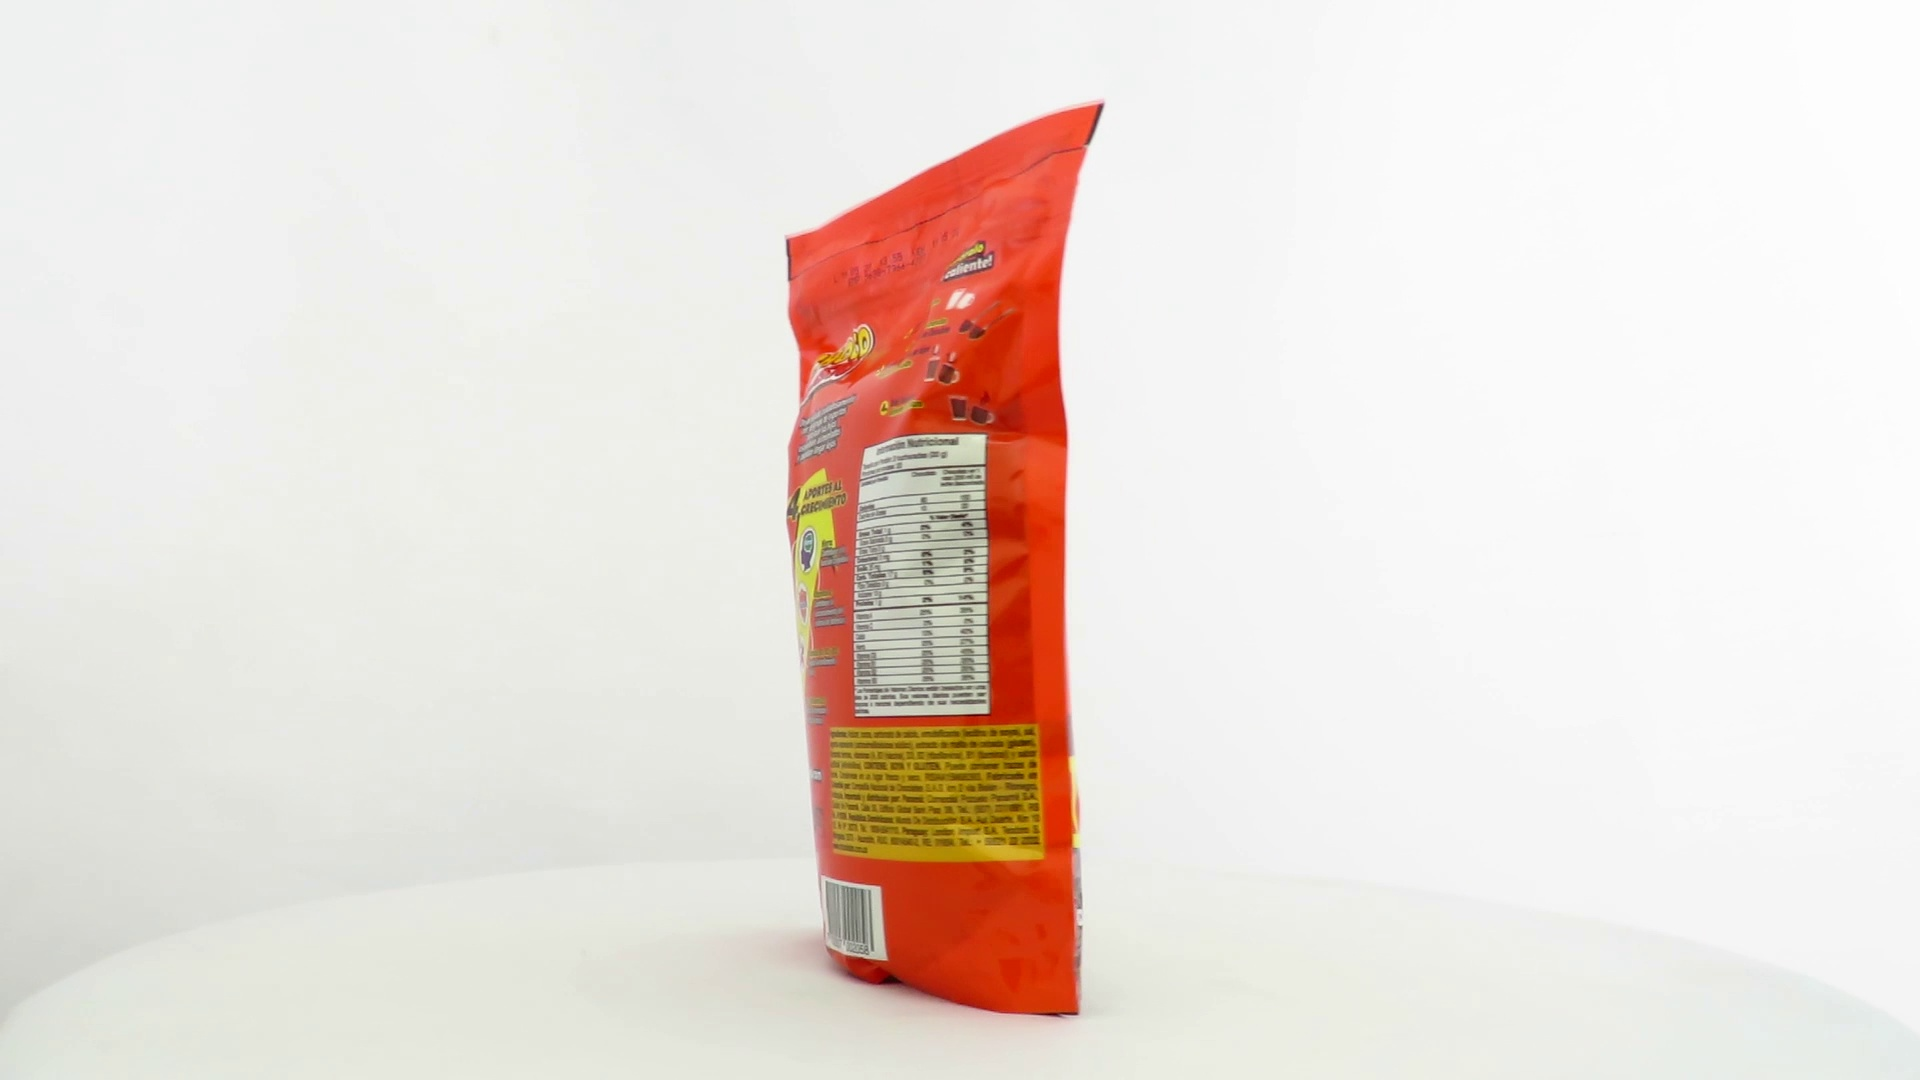COL0170103DYP40000: (781, 98, 1110, 1025)
